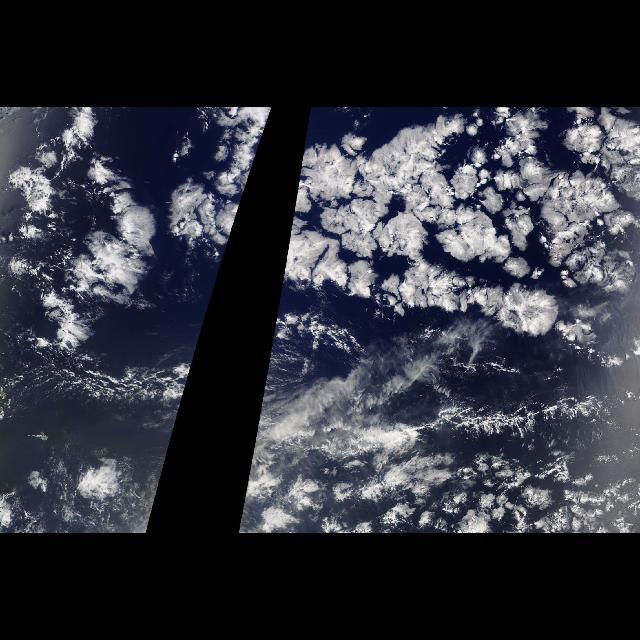Flower: (268, 107, 640, 370), (238, 466, 630, 532), (184, 109, 272, 357)
